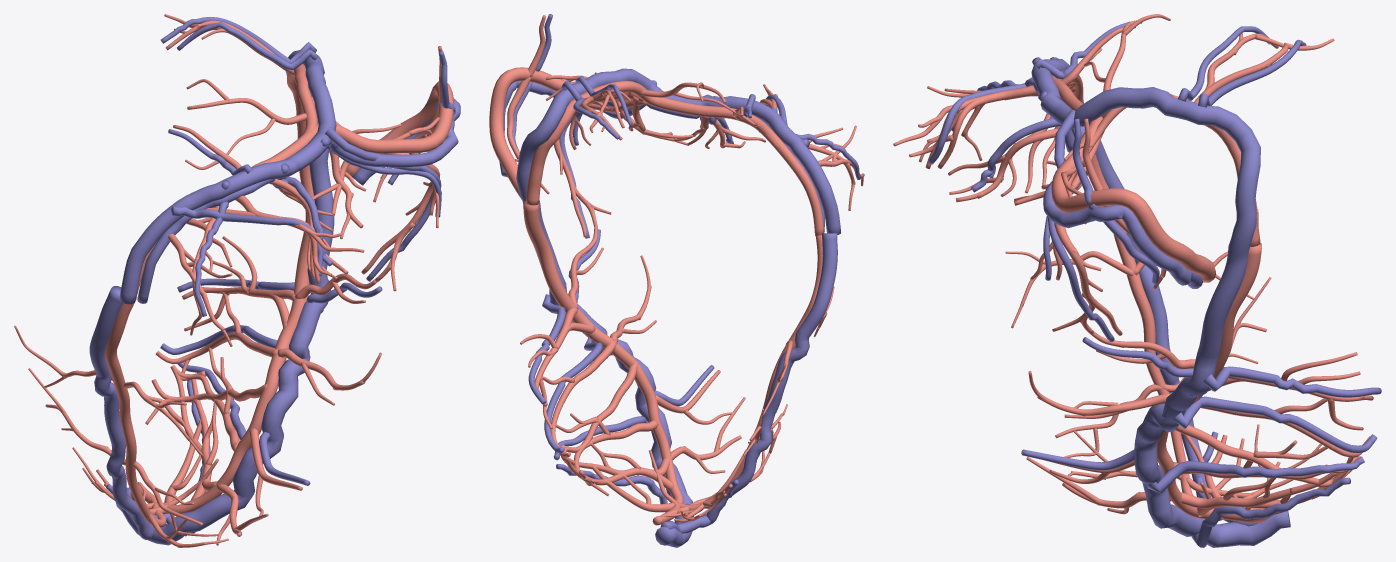
File: vessels_32.glb
The picture shows the model from 3 angles, left to right: view 1: azimuth 30°, elevation 25°; view 2: azimuth 150°, elevation 25°; view 3: azimuth 270°, elevation 25°; orthographic projection. The views are drawn at different scales.
Parts seen in each view (by area): view 1: Renderer Node; view 2: Renderer Node; view 3: Renderer Node.
Part boxes in pixels (x1,y1,x2,y2): Renderer Node: [14, 14, 460, 547]; Renderer Node: [489, 14, 864, 547]; Renderer Node: [893, 14, 1381, 547].
Size of the model in its own units: 92.96 by 116 by 92.24.
